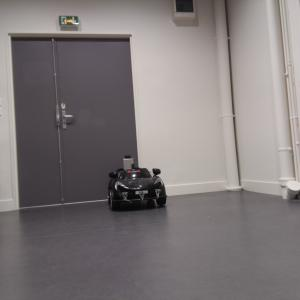big: (105, 167, 168, 212)
